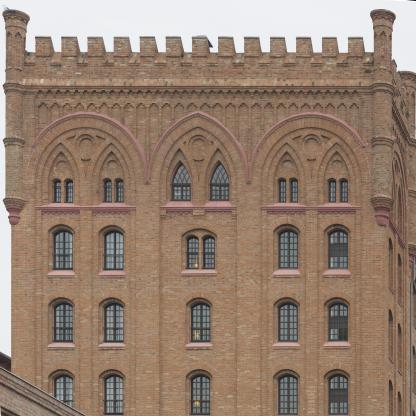Building Outline: (0, 9, 415, 416)
Cornice: (43, 362, 79, 376), (94, 218, 130, 232), (319, 362, 355, 376), (319, 217, 354, 231), (269, 217, 304, 231), (269, 362, 304, 376), (319, 290, 354, 304), (43, 218, 79, 231), (43, 291, 79, 304), (181, 363, 217, 376), (181, 291, 217, 304), (94, 363, 129, 376), (94, 291, 129, 304), (269, 291, 304, 304), (180, 225, 219, 236)
Facade: (2, 9, 397, 400)
Floor: (12, 224, 384, 292), (12, 297, 384, 364), (12, 369, 384, 415)
Floor Slab: (12, 292, 384, 298), (12, 364, 384, 369), (12, 219, 384, 224)
Molding: (35, 90, 361, 169)
Top Floor: (12, 54, 384, 218)
Window: (189, 373, 211, 415), (52, 373, 73, 416), (102, 373, 123, 416), (277, 373, 298, 416), (327, 373, 348, 416), (52, 228, 73, 270), (52, 301, 73, 343), (102, 301, 123, 343), (189, 301, 210, 343), (102, 229, 123, 270), (327, 228, 348, 269), (277, 228, 298, 269), (327, 301, 348, 342), (277, 301, 298, 342), (208, 160, 229, 201), (170, 160, 191, 201), (201, 234, 215, 270), (185, 234, 199, 270), (114, 178, 124, 203), (102, 178, 112, 203), (339, 178, 348, 203), (327, 178, 336, 203), (289, 177, 298, 202), (277, 177, 286, 202), (64, 178, 73, 203), (52, 178, 61, 203)
